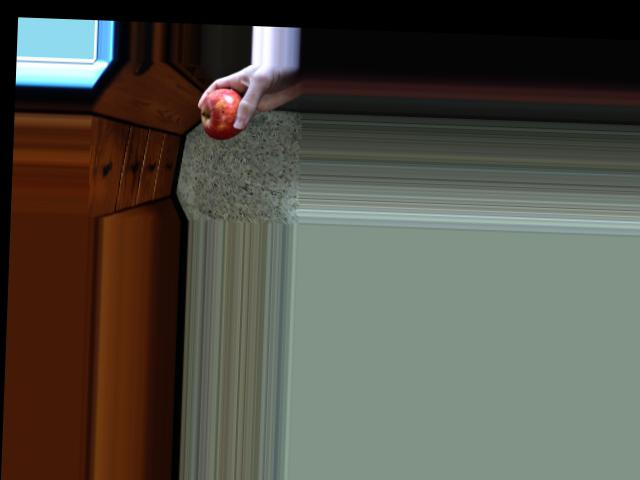apple: (196, 80, 256, 141)
